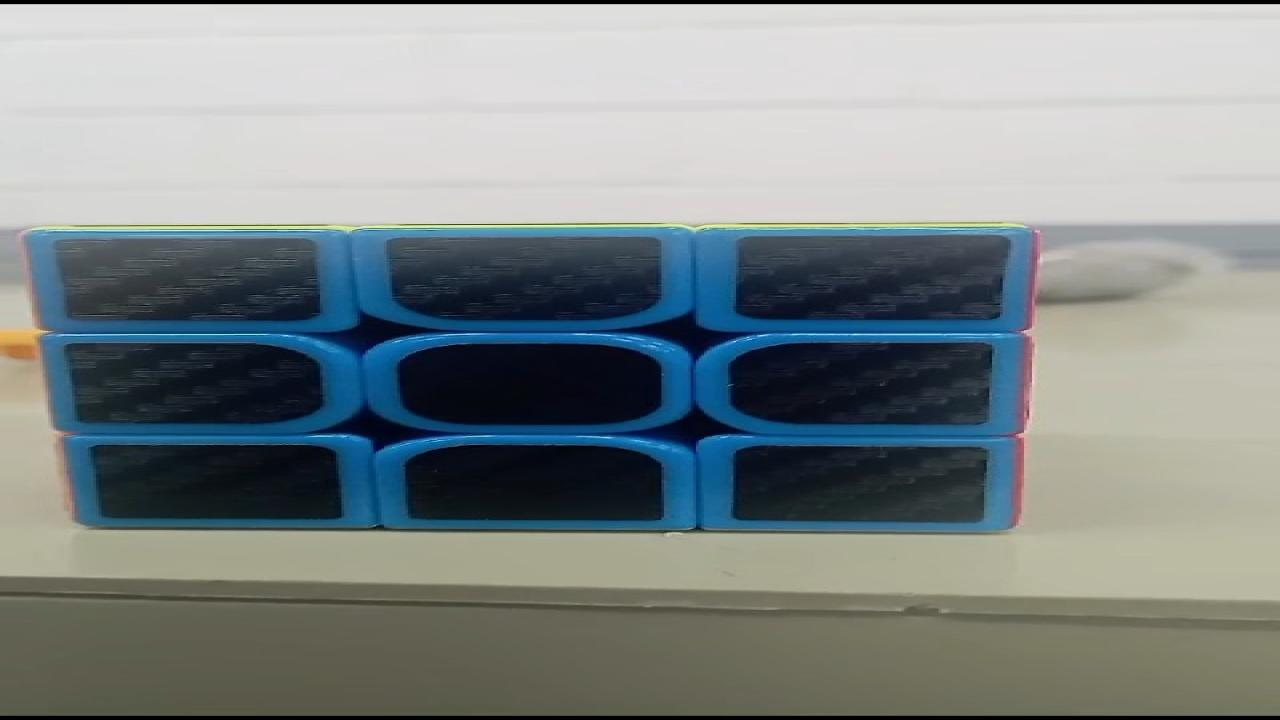Cube: (21, 222, 1043, 533)
